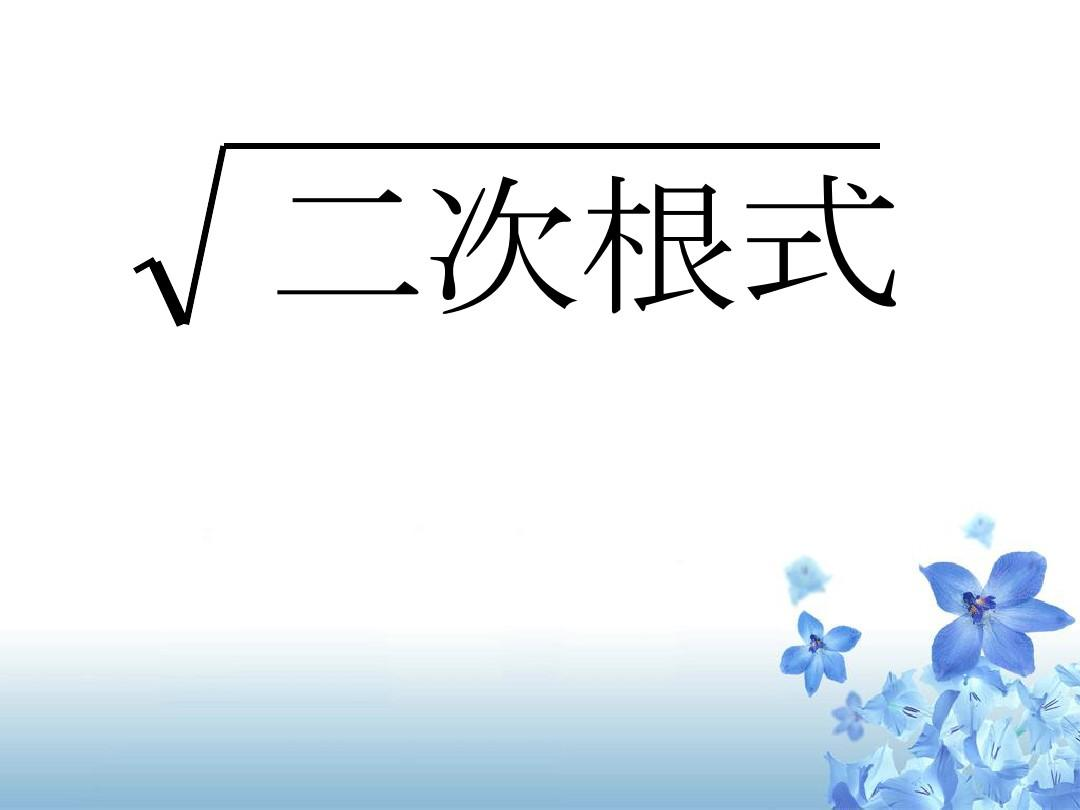sqrt: (128, 136, 902, 327)
